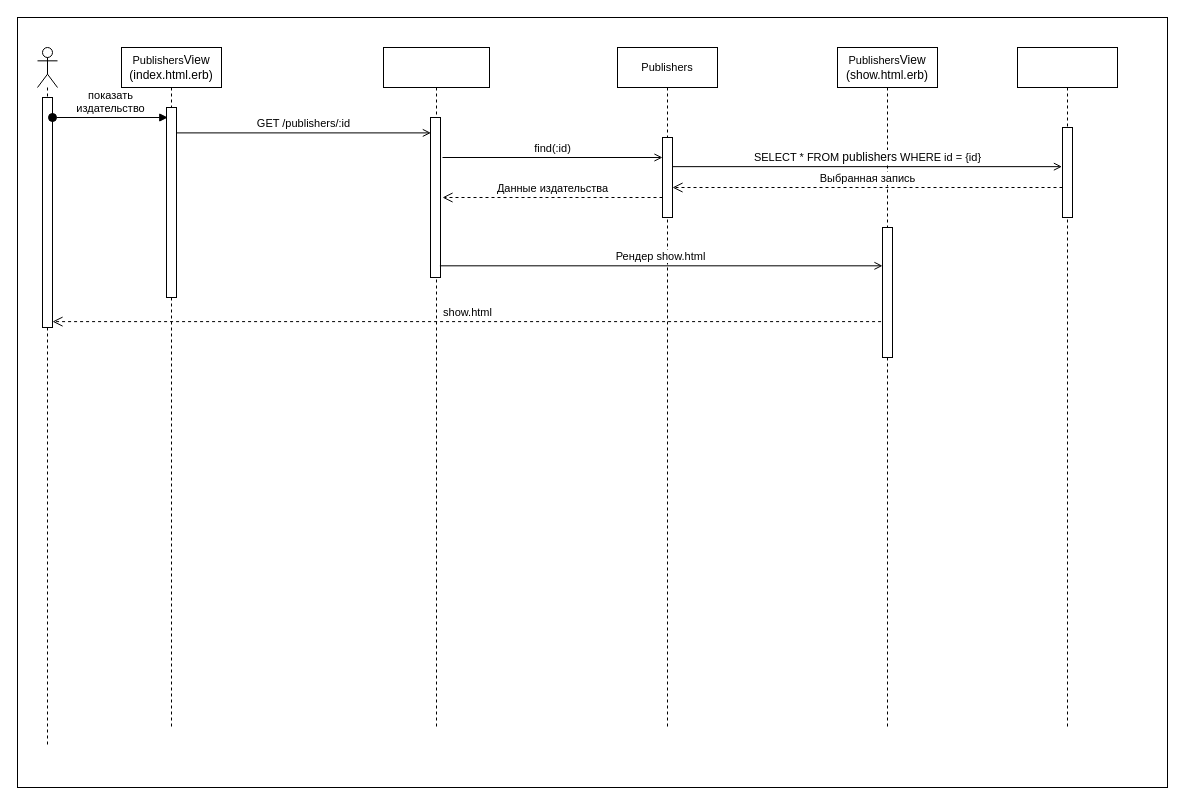
The diagram is 1185 pixels wide and 805 high, and some of its shapes have lost their labels. The shapes that lost their labels are listed below. From the top down, each one's box as (x1, y1, x2, y2) in pixels, then its label:
(382, 46, 490, 728): Publishers Controller
(1016, 46, 1118, 728): Database
